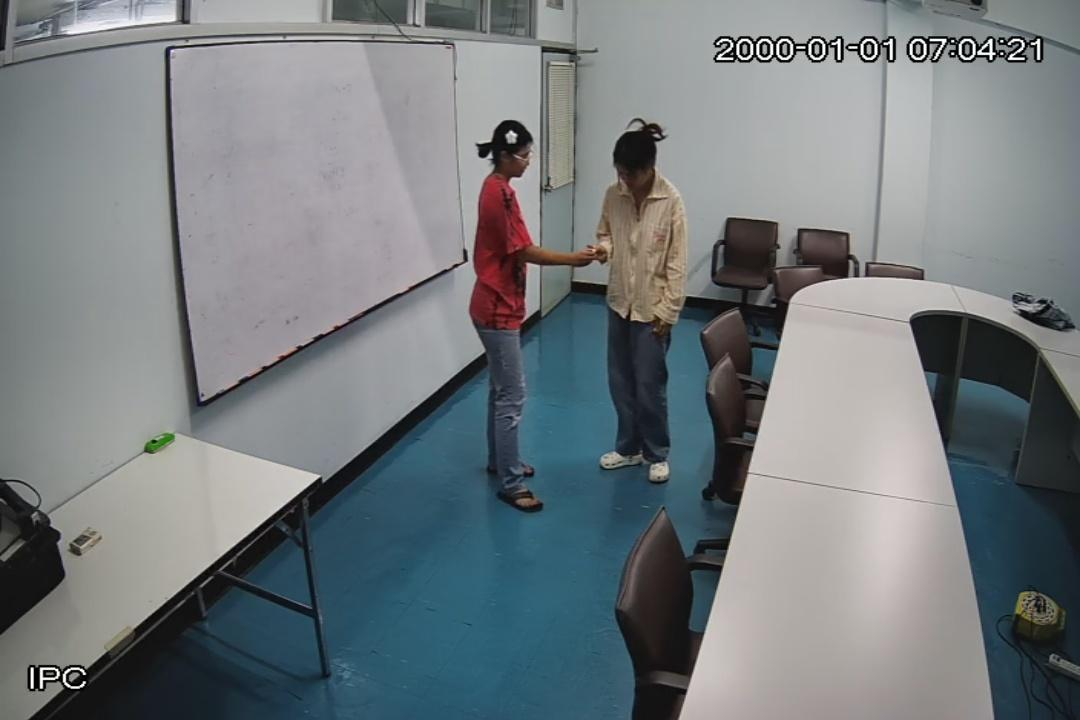normal: (466, 102, 556, 534), (588, 116, 688, 488)
